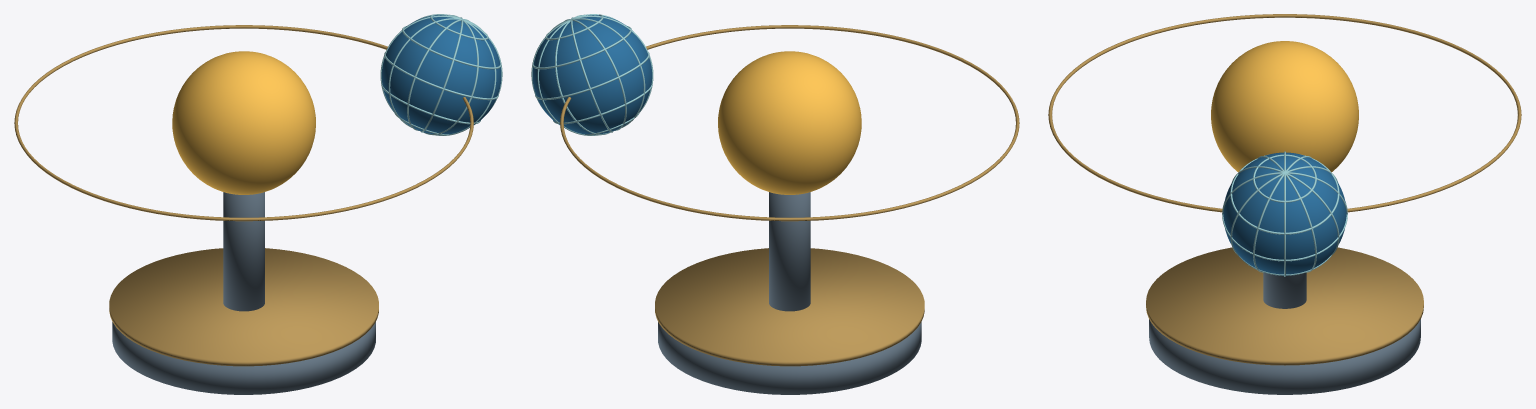
Rendered from earthsky-seasons-v1-ultra.glb.
3 renders of one model, left to right at view 1: azimuth 30°, elevation 25°; view 2: azimuth 150°, elevation 25°; view 3: azimuth 270°, elevation 25°, orthographic. The views are drawn at different scales.
Visible parts, largest first — view 1: brass-trim, sun, earth-ocean, weighted-base, pedestal, orbit-diagram, longitude.005; view 2: brass-trim, sun, earth-ocean, weighted-base, pedestal, orbit-diagram, longitude.001; view 3: brass-trim, sun, earth-ocean, weighted-base, orbit-diagram, pedestal, latitude.003.
Part boxes in pixels (x1,y1,x2,y2): brass-trim: (109, 248, 378, 366); sun: (172, 51, 315, 194); earth-ocean: (381, 15, 501, 134); weighted-base: (112, 322, 375, 394); pedestal: (223, 192, 264, 311); orbit-diagram: (14, 25, 473, 221); longitude.005: (380, 15, 502, 113); brass-trim: (655, 248, 924, 366); sun: (718, 51, 861, 194); earth-ocean: (532, 15, 652, 134); weighted-base: (658, 322, 921, 394); pedestal: (769, 192, 810, 311); orbit-diagram: (560, 25, 1019, 221); longitude.001: (531, 15, 653, 113); brass-trim: (1146, 247, 1423, 365); sun: (1211, 41, 1358, 172); earth-ocean: (1223, 152, 1346, 275); weighted-base: (1149, 319, 1420, 394); orbit-diagram: (1048, 14, 1521, 212); pedestal: (1263, 272, 1306, 308); latitude.003: (1230, 155, 1339, 234).
Size of the model in its own units: 0.8648 by 0.5175 by 0.766.
